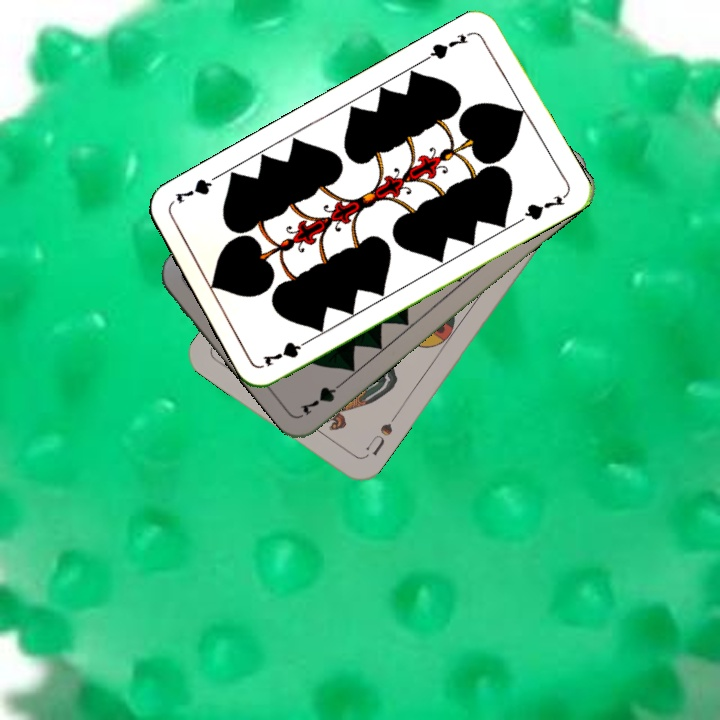G7: (296, 375, 349, 419), (259, 333, 315, 370), (421, 28, 475, 63)
SU: (359, 410, 400, 462)
